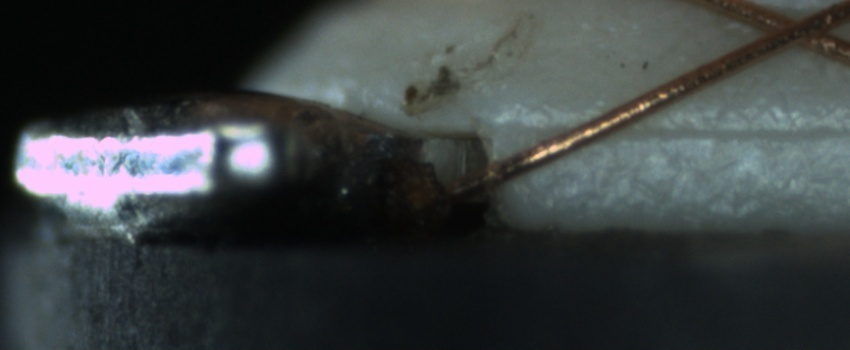CL: (744, 1, 842, 58)
DL: (518, 97, 847, 161)
